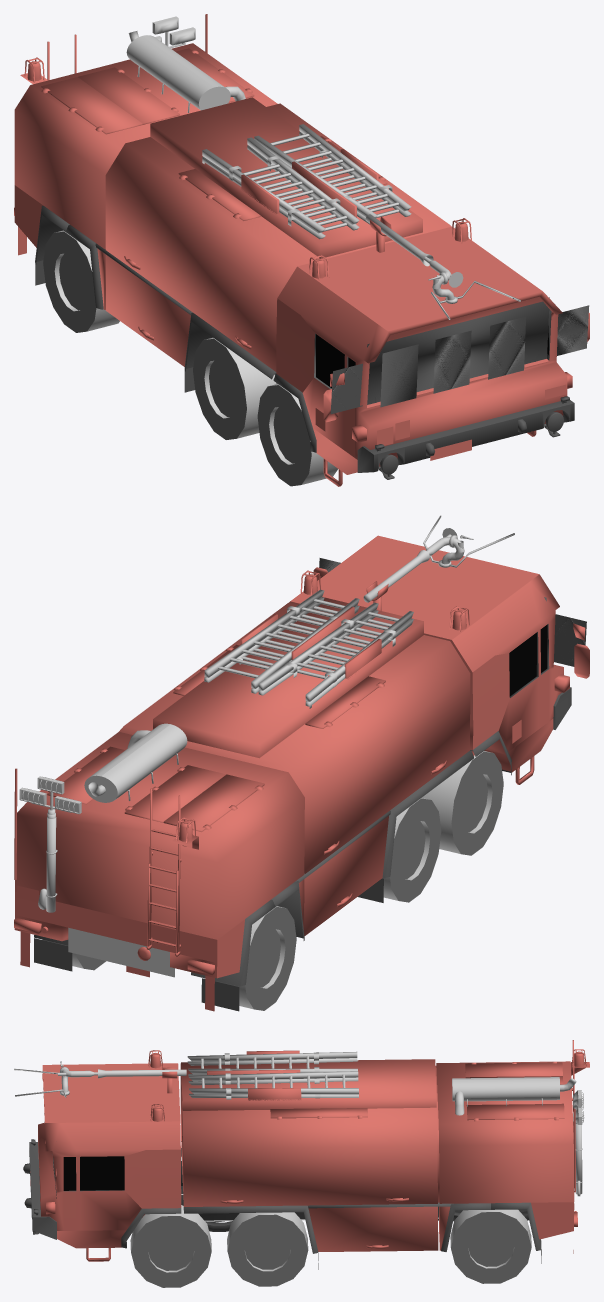
File: Firetruck.dae
The picture shows the model from 3 angles, top to bottom: view 1: azimuth 30°, elevation 25°; view 2: azimuth 150°, elevation 25°; view 3: azimuth 270°, elevation 25°; orthographic projection. The views are drawn at different scales.
Parts seen in each view (by area): view 1: tank, kaba, tankadd2, kabd, radf, _leiter, tankadd1, alpha2, details, glassf, bumber, kots (+6 smaller); view 2: tank, tankadd2, radf, kabd, kaba, _leiter, tankadd1, details, kots, auspuff, radp, keile (+4 smaller); view 3: tank, radf, kaba, tankadd2, kabd, _leiter, details, tankadd1, kots, auspuff, radp, glasst (+4 smaller).
Part boxes in pixels (x1=…): tank: x1=14, y1=14, x2=451, y2=371; kaba: x1=277, y1=266, x2=589, y2=486; tankadd2: x1=150, y1=97, x2=422, y2=258; kabd: x1=297, y1=226, x2=542, y2=331; radf: x1=43, y1=231, x2=311, y2=486; _leiter: x1=202, y1=124, x2=411, y2=239; tankadd1: x1=20, y1=34, x2=254, y2=134; alpha2: x1=380, y1=316, x2=526, y2=407; details: x1=14, y1=57, x2=566, y2=460; glassf: x1=367, y1=297, x2=549, y2=404; bumber: x1=357, y1=396, x2=574, y2=479; kots: x1=35, y1=205, x2=316, y2=452; tank: x1=14, y1=602, x2=470, y2=978; tankadd2: x1=153, y1=581, x2=423, y2=758; radf: x1=76, y1=751, x2=503, y2=1010; kabd: x1=290, y1=535, x2=539, y2=639; kaba: x1=289, y1=567, x2=589, y2=784; _leiter: x1=204, y1=589, x2=413, y2=708; tankadd1: x1=47, y1=746, x2=264, y2=956; details: x1=14, y1=570, x2=521, y2=1011; kots: x1=34, y1=731, x2=511, y2=1011; auspuff: x1=84, y1=723, x2=187, y2=802; radp: x1=43, y1=751, x2=492, y2=1009; keile: x1=68, y1=927, x2=174, y2=977; tank: x1=180, y1=1061, x2=575, y2=1251; radf: x1=131, y1=1212, x2=531, y2=1287; kaba: x1=38, y1=1073, x2=180, y2=1261; tankadd2: x1=162, y1=1050, x2=436, y2=1119; kabd: x1=42, y1=1063, x2=180, y2=1122; _leiter: x1=187, y1=1051, x2=358, y2=1099; details: x1=30, y1=1049, x2=586, y2=1253; tankadd1: x1=465, y1=1040, x2=589, y2=1143; kots: x1=121, y1=1141, x2=541, y2=1269; auspuff: x1=452, y1=1077, x2=576, y2=1115; radp: x1=130, y1=1145, x2=531, y2=1272; glasst: x1=63, y1=1156, x2=124, y2=1190.
Size of the model in its own units: 5.79 by 14.03 by 4.97.
